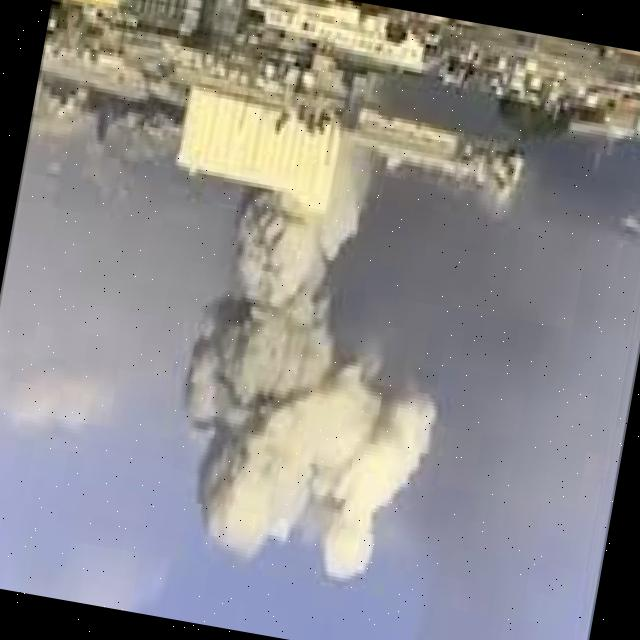explosion: (66, 0, 525, 601)
